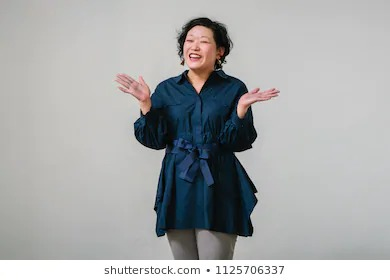C_blouse: (124, 56, 261, 239)
